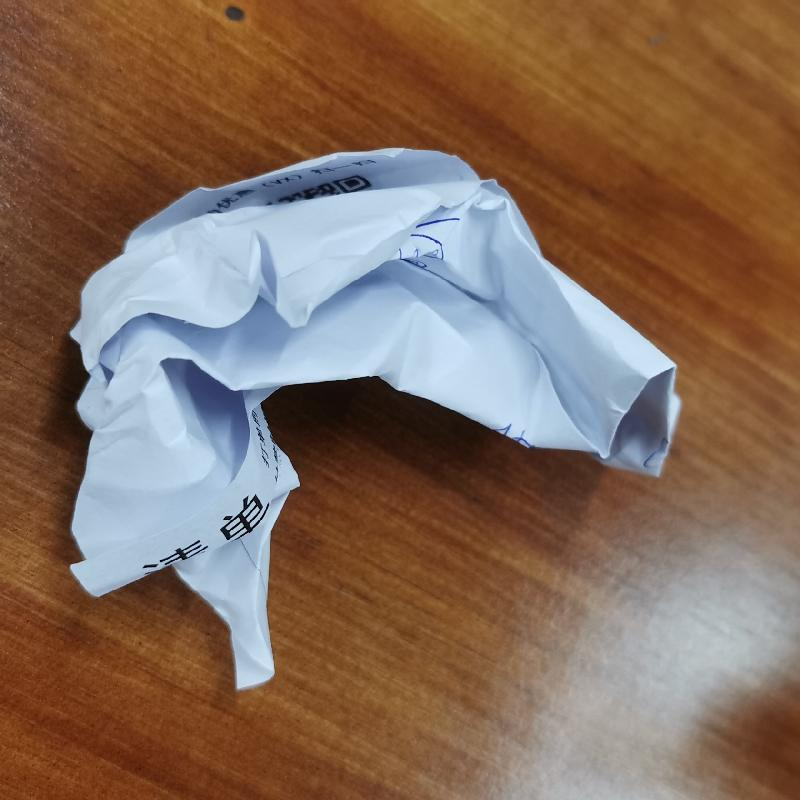spitball: (67, 142, 686, 699)
